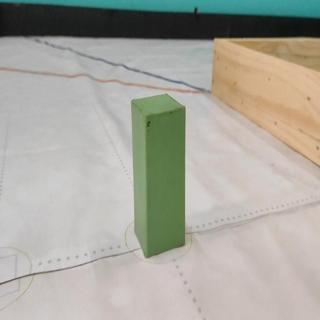greenbox: (131, 93, 187, 259)
